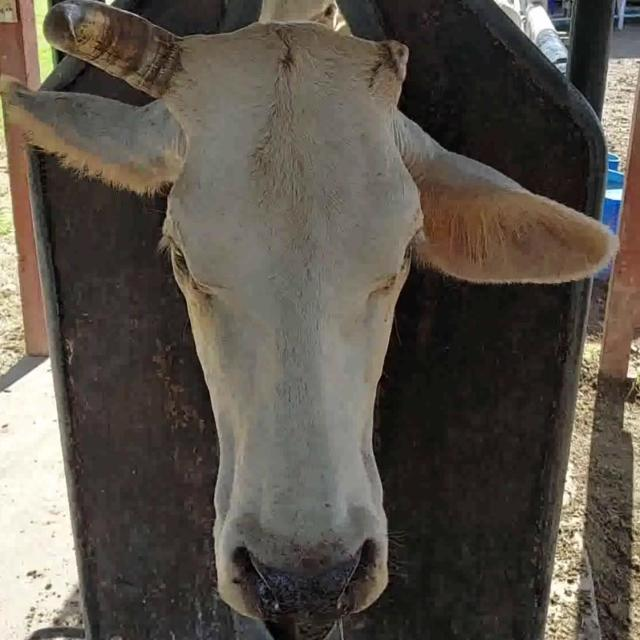cowFace: (161, 13, 423, 622)
